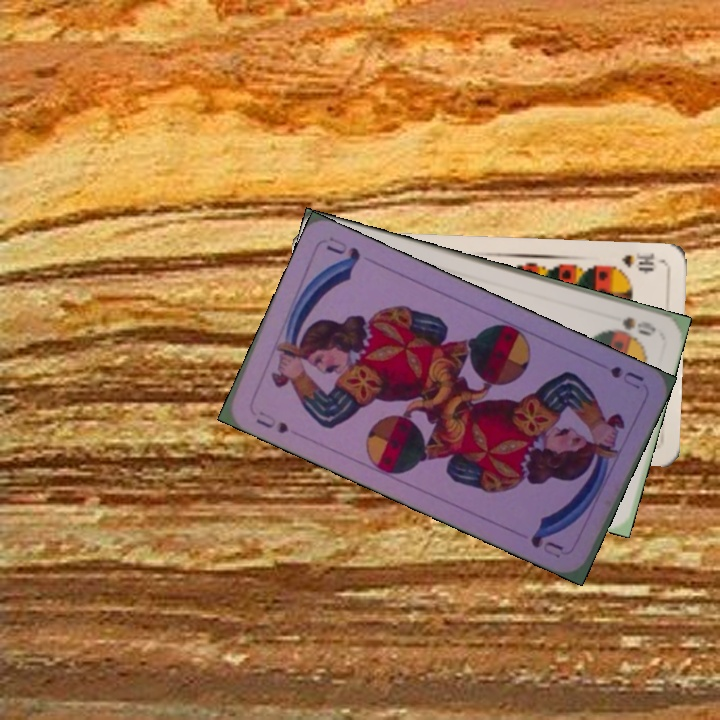S10: (617, 248, 657, 274)
SO: (618, 312, 659, 339)
SU: (251, 406, 291, 437), (606, 362, 647, 392)
